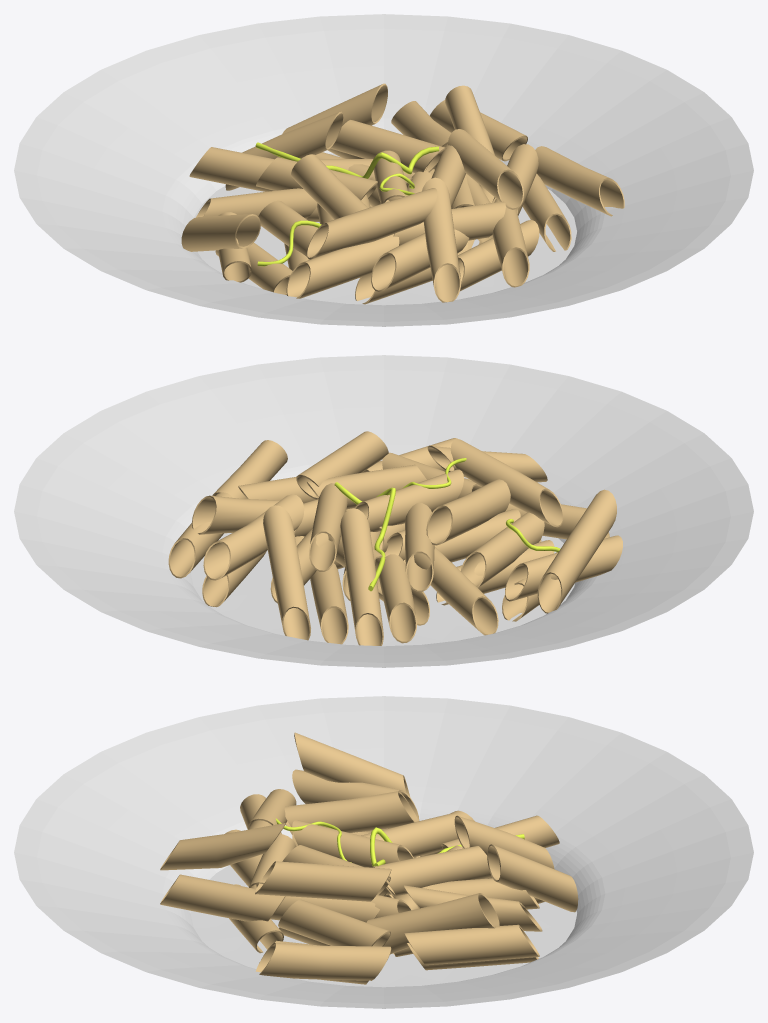
File: dbf1ee4d-d362-419e-b875-6f8acd1bbf42.glb
3 renders of one model, top to bottom at view 1: azimuth 30°, elevation 25°; view 2: azimuth 150°, elevation 25°; view 3: azimuth 270°, elevation 25°, orthographic.
Parts seen in each view (by area): view 1: Cylinder001, Cylinder037, Cylinder036, Cylinder038, Cylinder017, Cylinder046, Cylinder043, Cylinder045, Cylinder044, Cylinder033, Cylinder039, Cylinder049 (+18 smaller); view 2: Cylinder001, Cylinder049, Cylinder045, Cylinder023, Cylinder037, Cylinder044, Cylinder041, Cylinder026, Cylinder042, Cylinder035, Cylinder043, Cylinder031 (+19 smaller); view 3: Cylinder001, Cylinder017, Cylinder043, Cylinder024, Cylinder018, Cylinder044, Cylinder025, Cylinder038, Cylinder046, Cylinder023, Cylinder016, Cylinder045 (+15 smaller).
Boxes of the visible parts, x1,y1,x2,y2 form: Cylinder001: [14, 14, 753, 326]; Cylinder037: [307, 188, 437, 259]; Cylinder036: [286, 234, 399, 298]; Cylinder038: [422, 177, 460, 302]; Cylinder017: [535, 146, 624, 216]; Cylinder046: [330, 120, 446, 173]; Cylinder043: [448, 129, 523, 209]; Cylinder045: [181, 214, 260, 251]; Cylinder044: [291, 154, 367, 219]; Cylinder033: [189, 147, 274, 191]; Cylinder039: [371, 229, 469, 291]; Cylinder049: [225, 111, 343, 190]; Cylinder001: [14, 355, 753, 667]; Cylinder049: [340, 508, 383, 645]; Cylinder045: [537, 489, 616, 613]; Cylinder023: [263, 505, 310, 640]; Cylinder037: [450, 439, 563, 527]; Cylinder044: [426, 479, 510, 545]; Cylinder041: [203, 494, 304, 580]; Cylinder026: [414, 547, 498, 635]; Cylinder042: [354, 469, 463, 531]; Cylinder035: [461, 512, 544, 587]; Cylinder043: [296, 431, 388, 499]; Cylinder031: [505, 535, 622, 601]; Cylinder001: [14, 696, 753, 1008]; Cylinder017: [255, 943, 391, 980]; Cylinder043: [255, 861, 391, 901]; Cylinder024: [404, 924, 539, 965]; Cylinder018: [160, 874, 285, 921]; Cylinder044: [284, 791, 418, 832]; Cylinder025: [366, 893, 499, 954]; Cylinder038: [160, 823, 285, 870]; Cylinder046: [373, 846, 491, 895]; Cylinder023: [487, 844, 578, 912]; Cylinder016: [278, 899, 390, 946]; Cylinder045: [294, 732, 409, 796].
Size of the model in its own units: 1152 by 172 by 1152.
